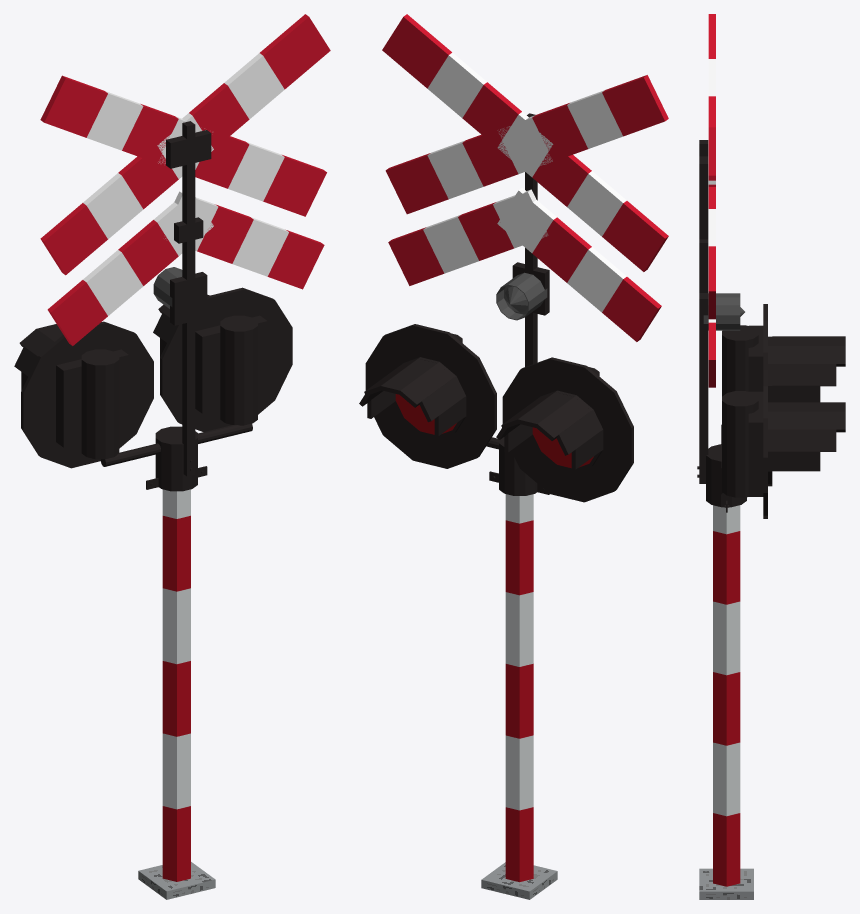
Rendered from sd-k2_with_bell_multi_track.obj.
3 views of the same model, side by side, from view 1: azimuth 30°, elevation 25°; view 2: azimuth 150°, elevation 25°; view 3: azimuth 270°, elevation 25° (orthographic). The views are drawn at different scales.
Parts seen in each view (by area): view 1: cuboid; view 2: cuboid, mrygR, mrygL; view 3: cuboid.
Part boxes in pixels (x1,y1,x2,y2): cuboid: [14, 14, 330, 899]; cuboid: [359, 14, 668, 899]; mrygR: [396, 394, 456, 434]; mrygL: [533, 427, 593, 468]; cuboid: [697, 14, 845, 899].
Bounding box in the file's own units: 1.1 × 3.09 × 0.5063.
1 material, 1 textured.
